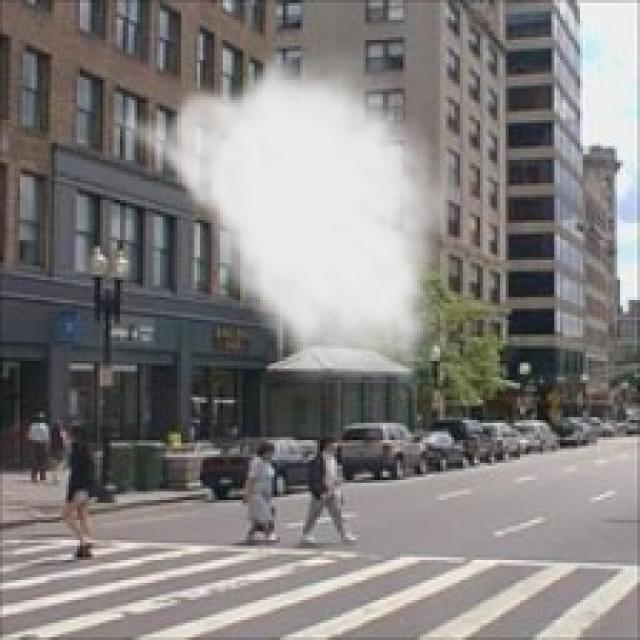Smoke: (102, 43, 458, 400)
